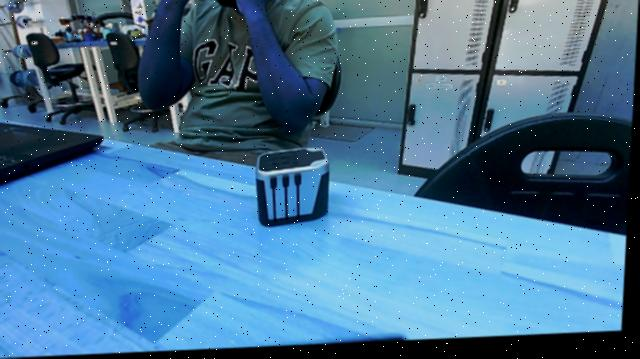adapter: (245, 147, 335, 234)
